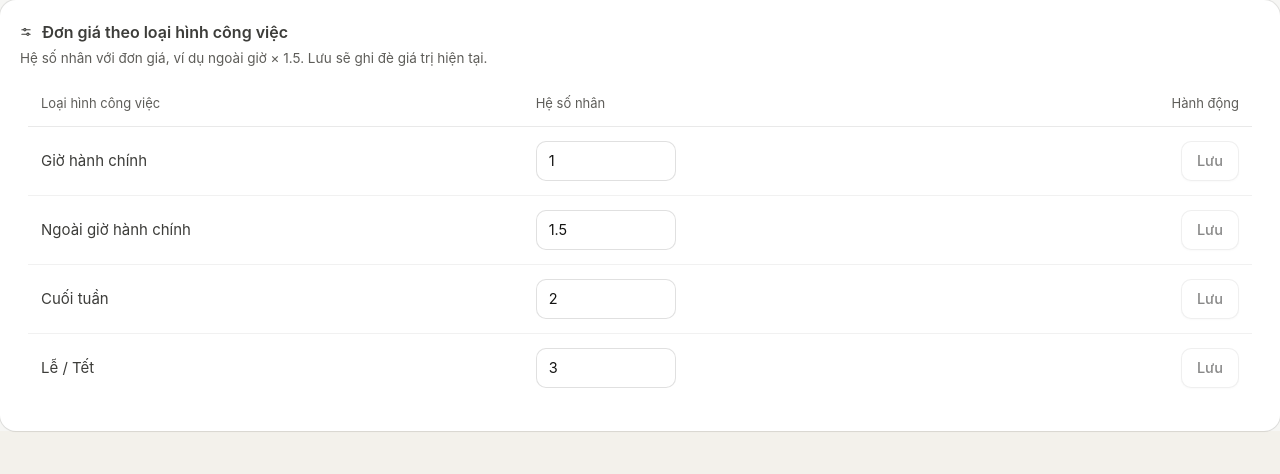
WorkTypeRateManager (NCL-07-CN-006 — Đơn giá theo loại hình công việc) › chặn phía client khi hệ số <= 0, không gọi API
Replace the text in the number field named "Hệ số Ngoài giờ hành chính" with "0" at coordinates (606, 230), box 536,210 -> 676,250
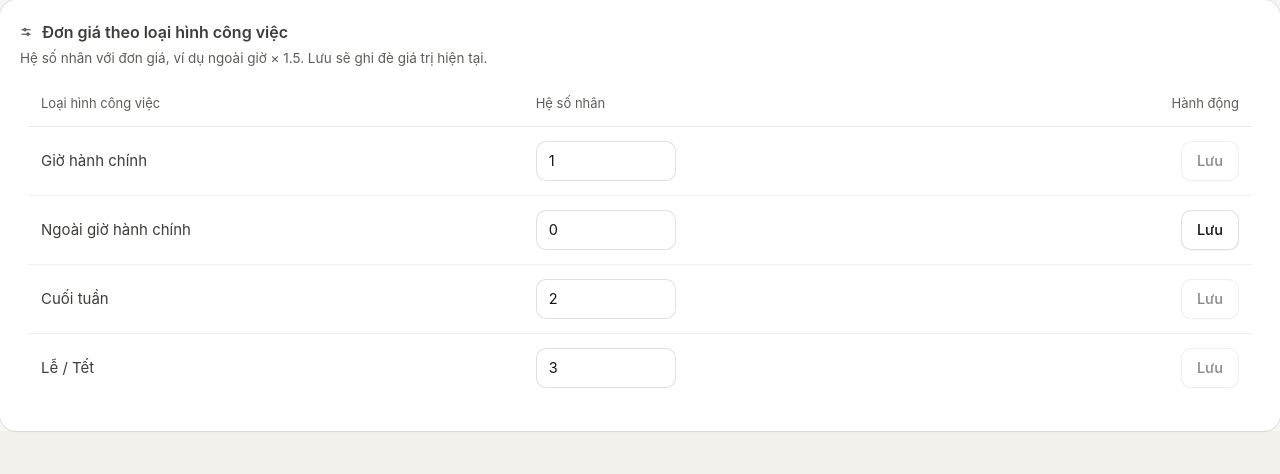
Click the button "Lưu" in the row of "Ngoài giờ hành chính" at coordinates (1210, 230), box 1181,210 -> 1239,250
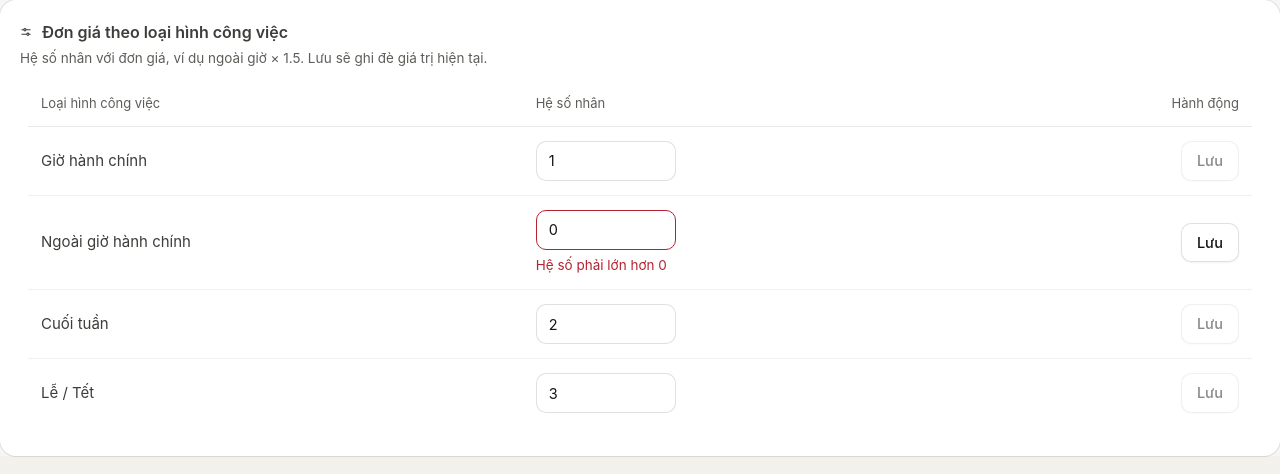
Expected: the text "Hệ số phải lớn hơn 0" is shown, 536,257 -> 667,273
